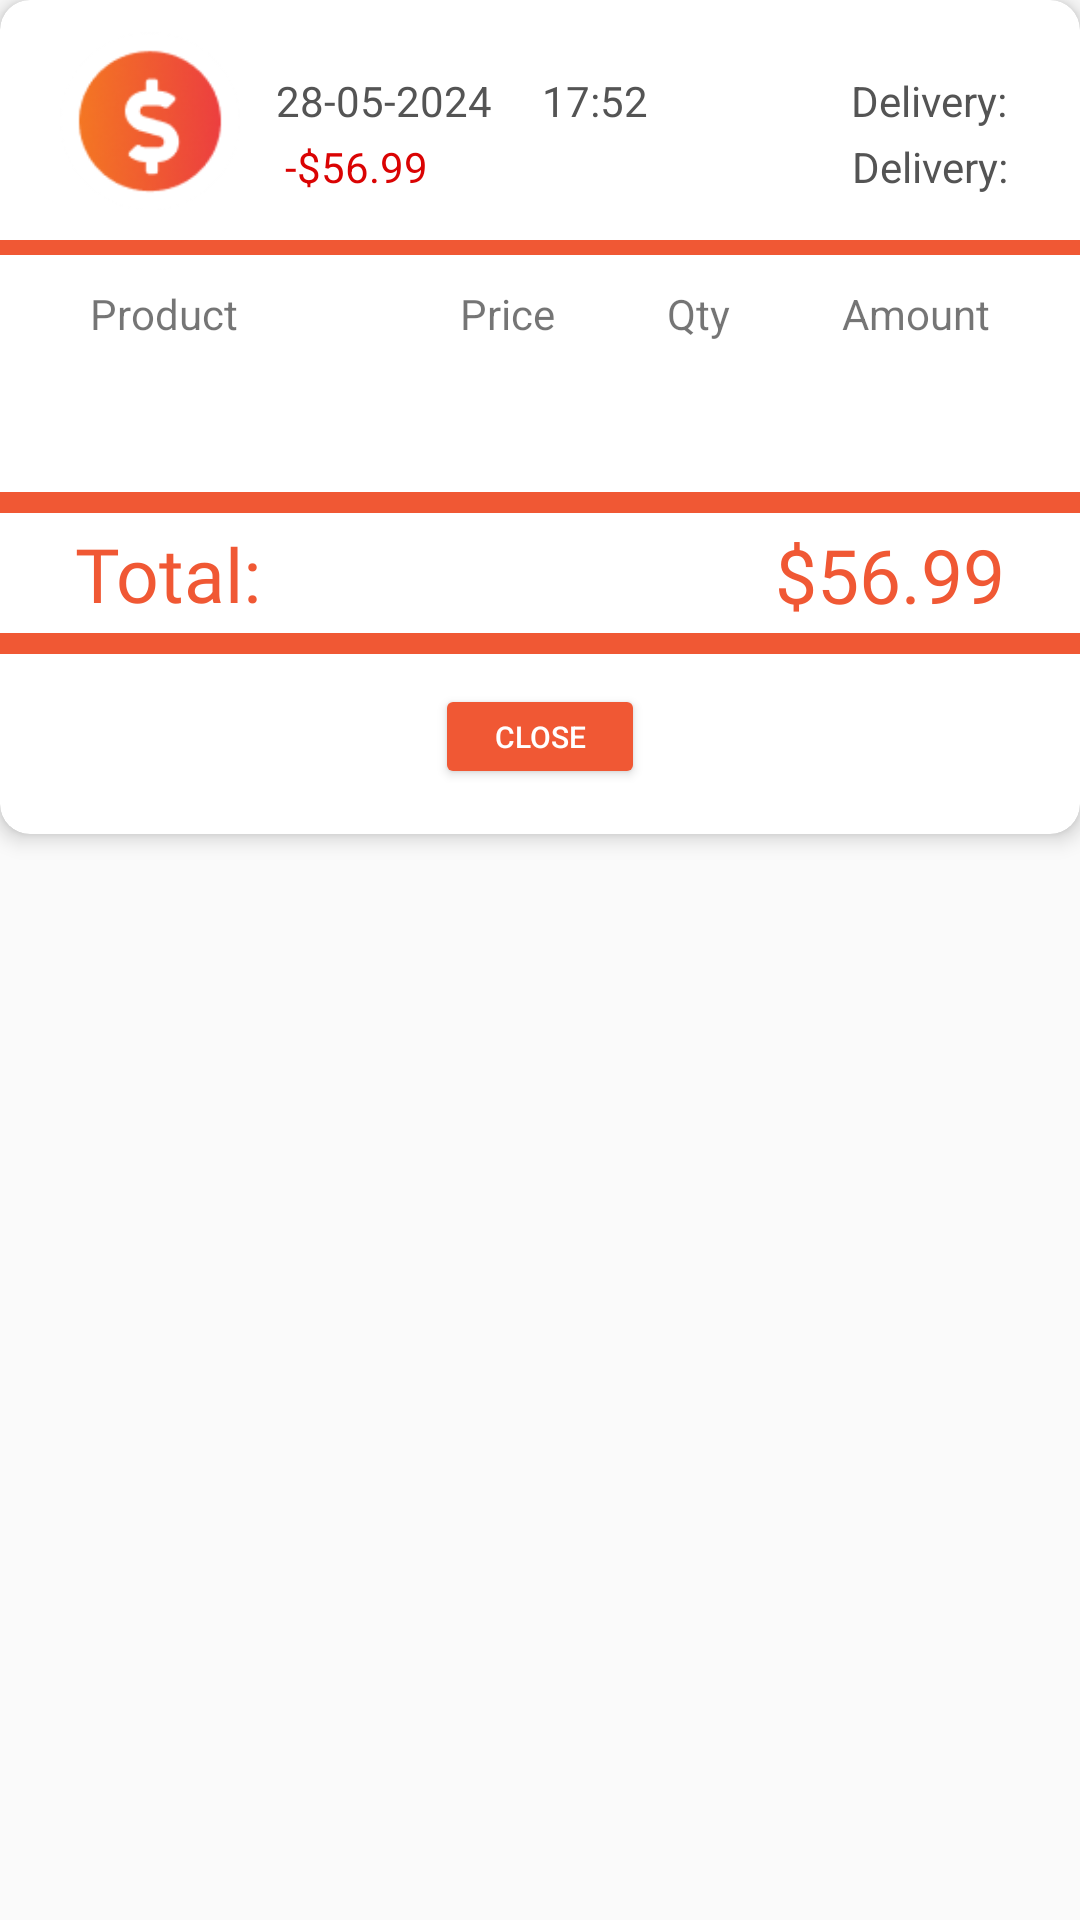

Icon bounding boxes for this 1080w x 1920h phone screenshot, format (x1, y1, x2, y2):
dollar: (78, 50, 222, 192)
